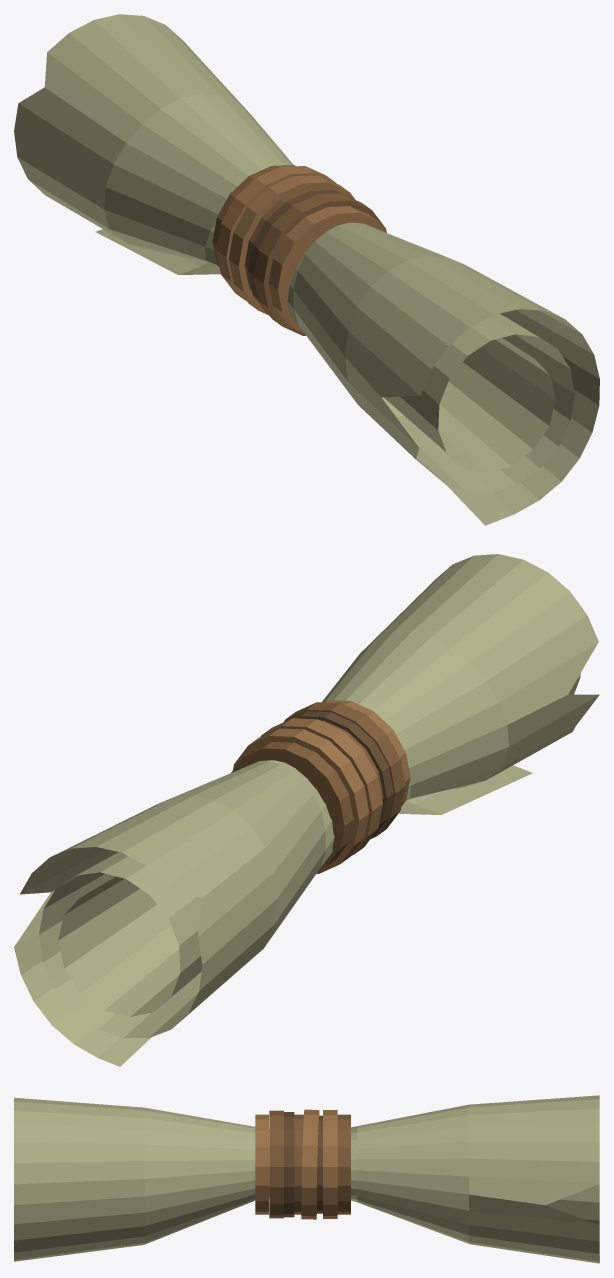
Rendered from rolledpaper2.fbx.
3 renders of one model, top to bottom at view 1: azimuth 30°, elevation 25°; view 2: azimuth 150°, elevation 25°; view 3: azimuth 270°, elevation 25°, orthographic. The views are drawn at different scales.
Visible parts, largest first — view 1: Plane, rope; view 2: Plane, rope; view 3: Plane, rope.
Boxes of the visible parts, bbox=[...] form: Plane: bbox=[14, 14, 599, 525]; rope: bbox=[212, 165, 386, 335]; Plane: bbox=[14, 554, 599, 1066]; rope: bbox=[231, 700, 410, 873]; Plane: bbox=[14, 1095, 599, 1263]; rope: bbox=[255, 1109, 350, 1219].
Size of the model in its own units: 54.12 by 58.73 by 200.
